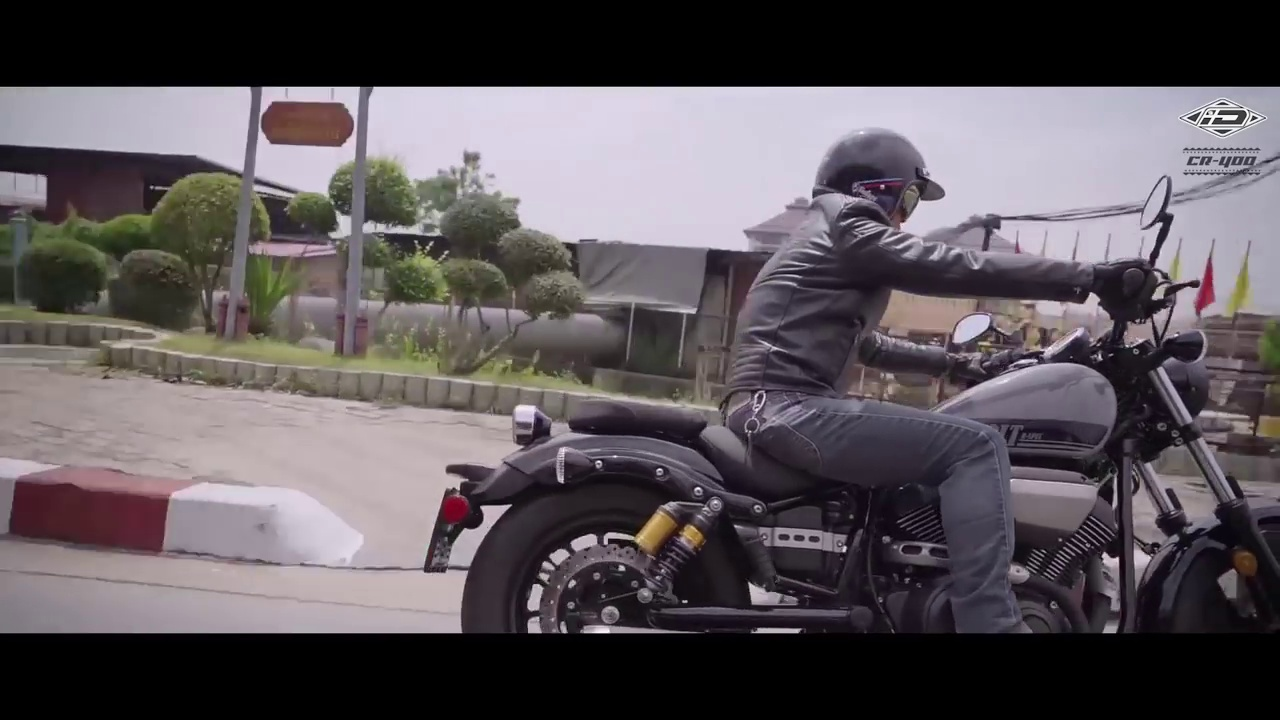helmet: (816, 111, 945, 215)
